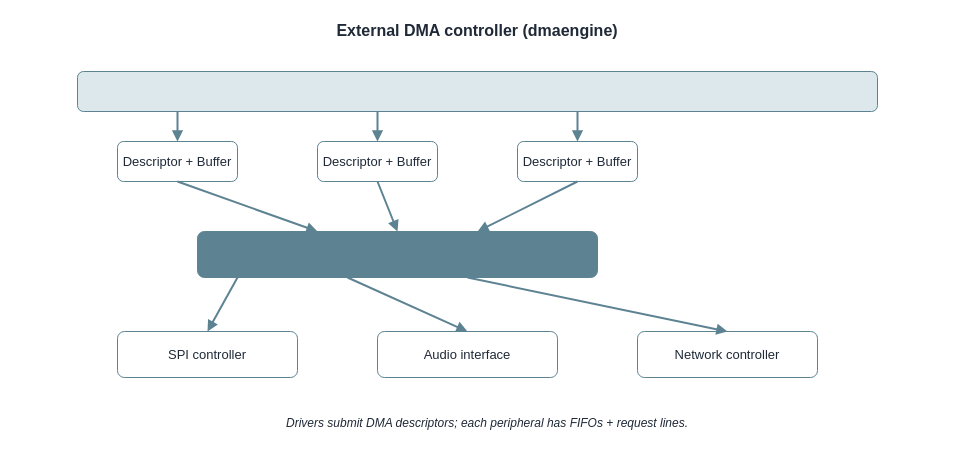
Some shapes in this 954 by 452 pixel diagram are drawn without their labels. Here are the shapes that lost their labels. From the top down, the centre of each, then its label:
the point at 477,91: RAM
the point at 397,254: DMA controller
